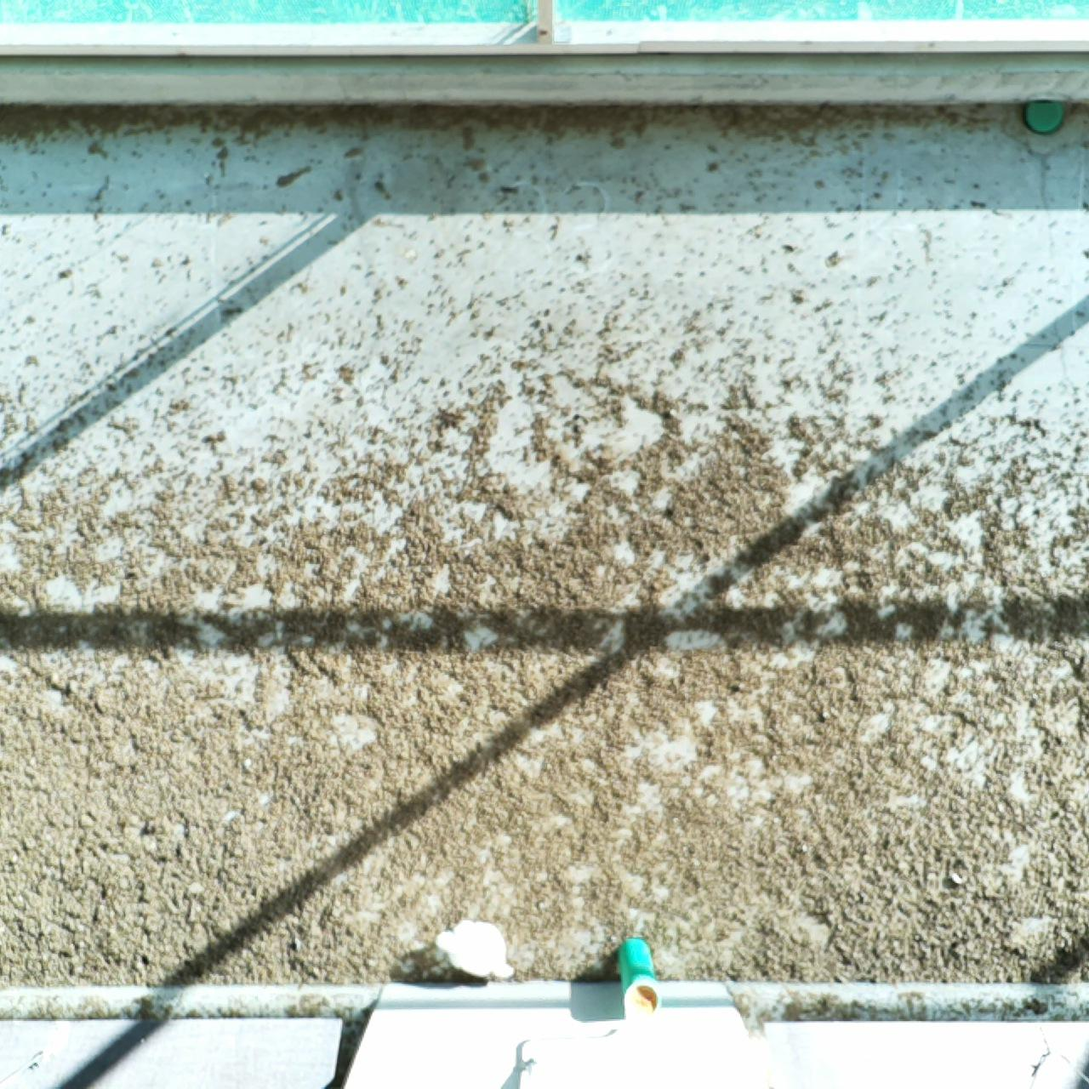chicken: (432, 918, 514, 982)
